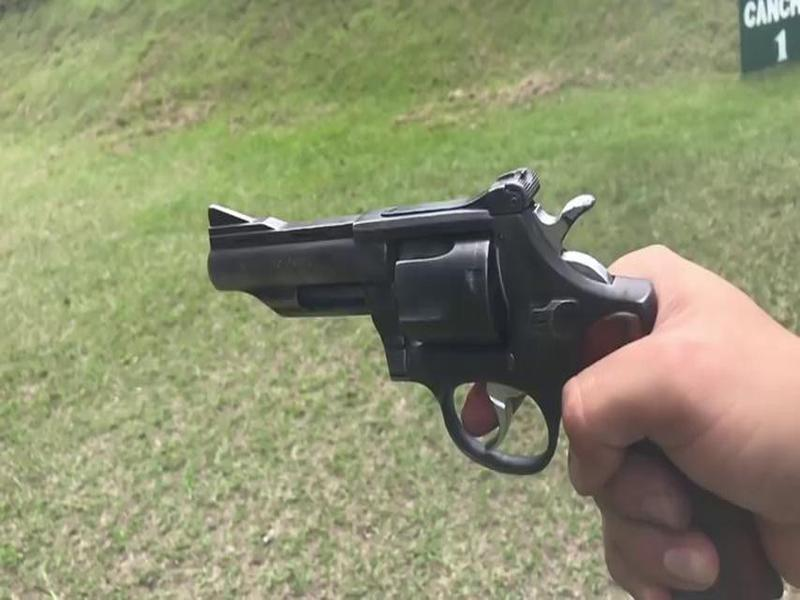Revolver: (193, 145, 681, 483)
